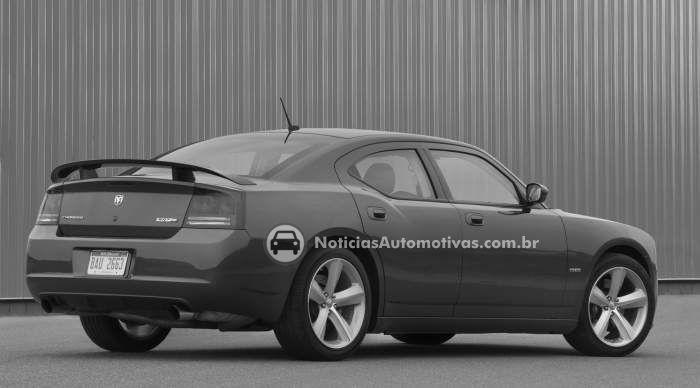car: (22, 98, 664, 362)
